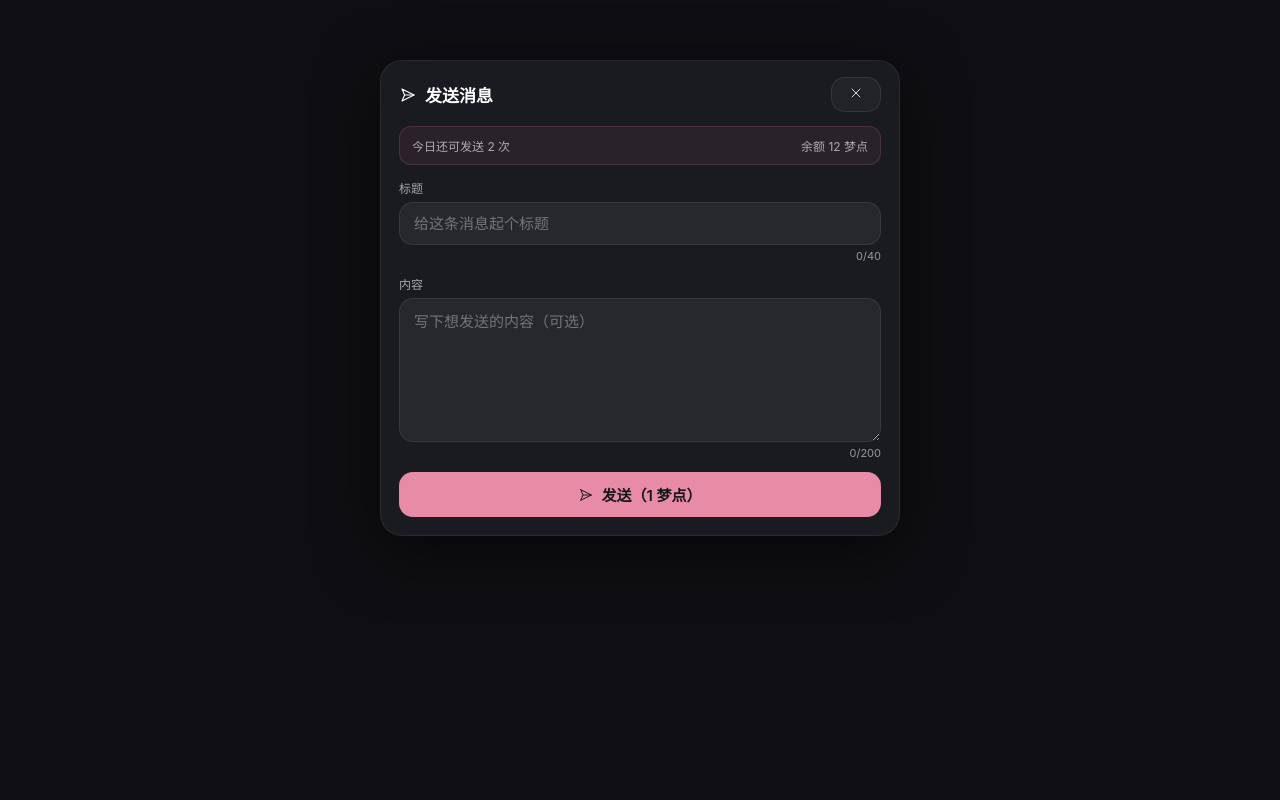
Test: MessageModal › sends a message and shows updated quota
Type "提醒" into the field named "消息标题" at (640, 224), box [399,202,881,245]
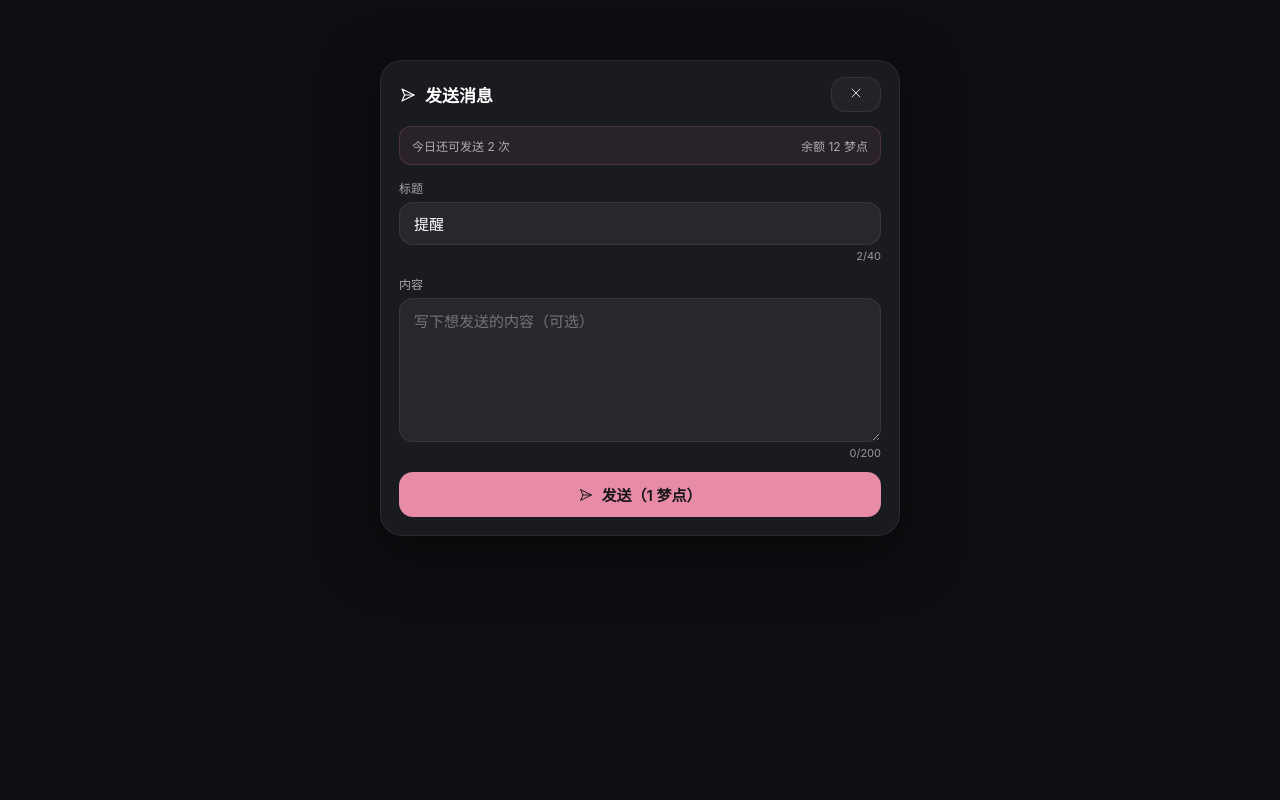
Type "晚点见" into the text box named "消息内容" at (640, 370), box [399,298,881,442]
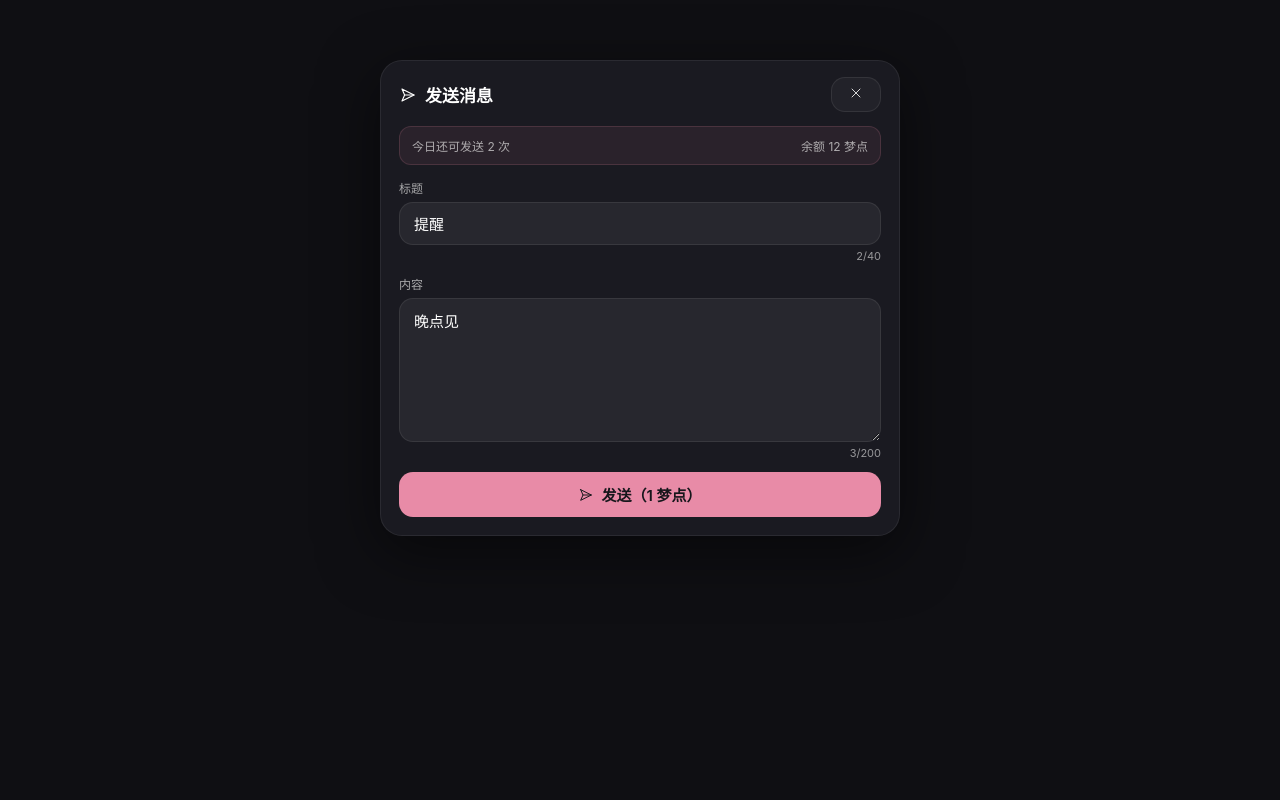
Click the button "发送（1 梦点）" at (640, 494), box [399,472,881,517]
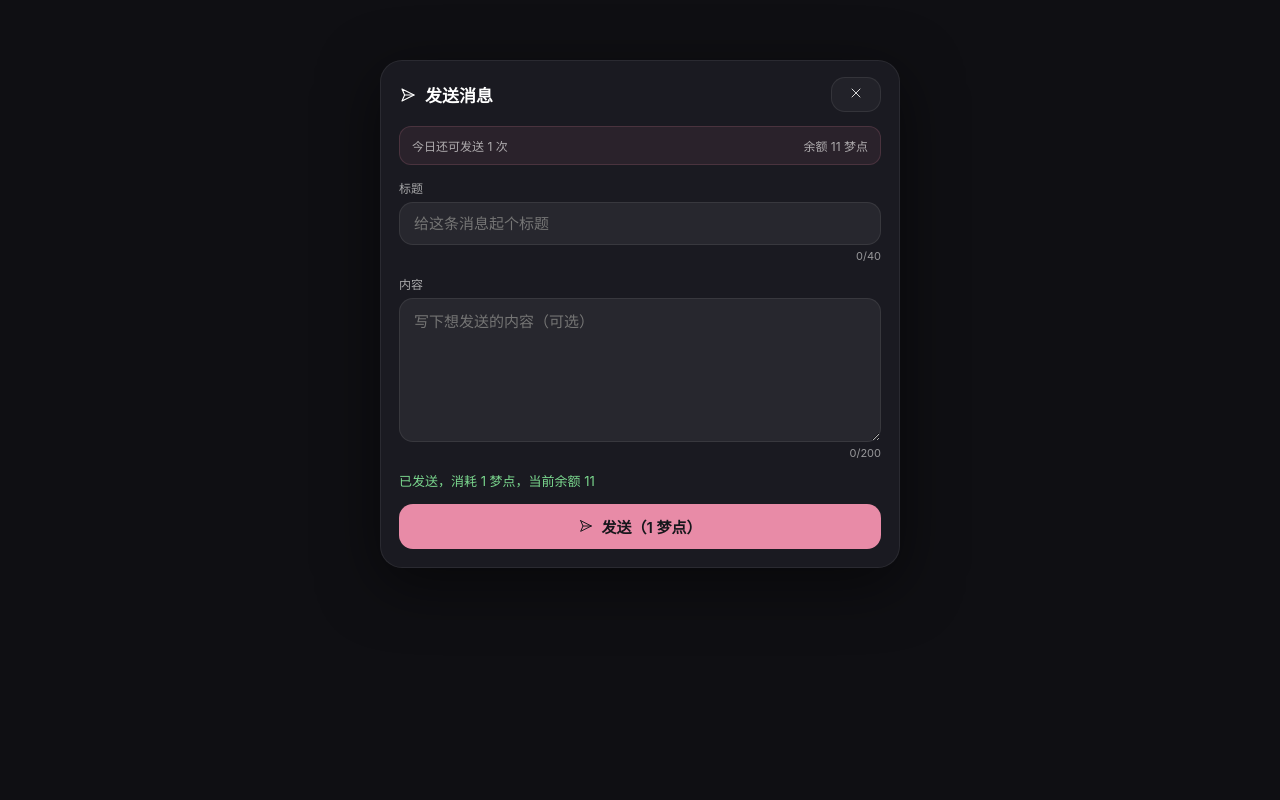
Check: the text "已发送，消耗 1 梦点，当前余额 11" is shown, box [399,473,595,489]
Check: the text "今日还可发送 1 次" is shown, box [412,137,508,154]
